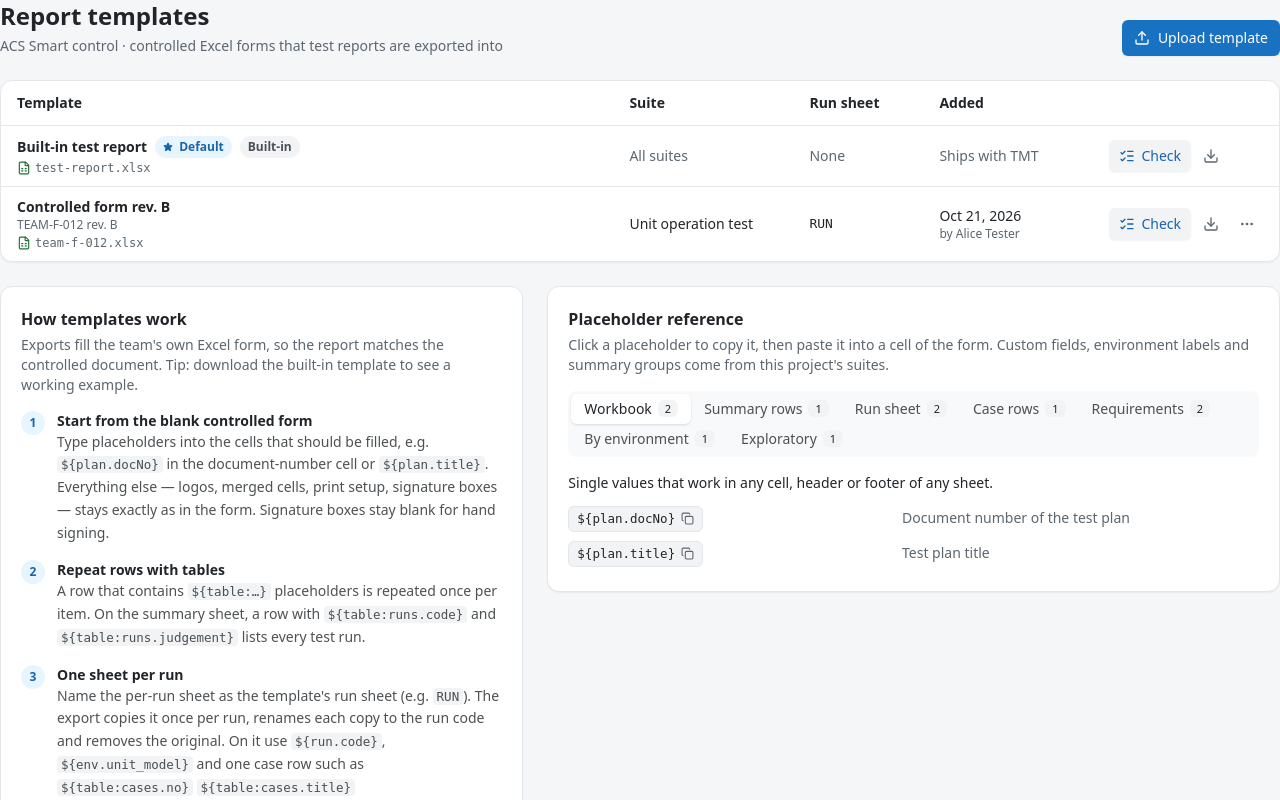
TemplatesPage › confirms a working template
Click the button with aria-label "Check Built-in test report": coordinates (1150, 156) [1109,140,1191,172]
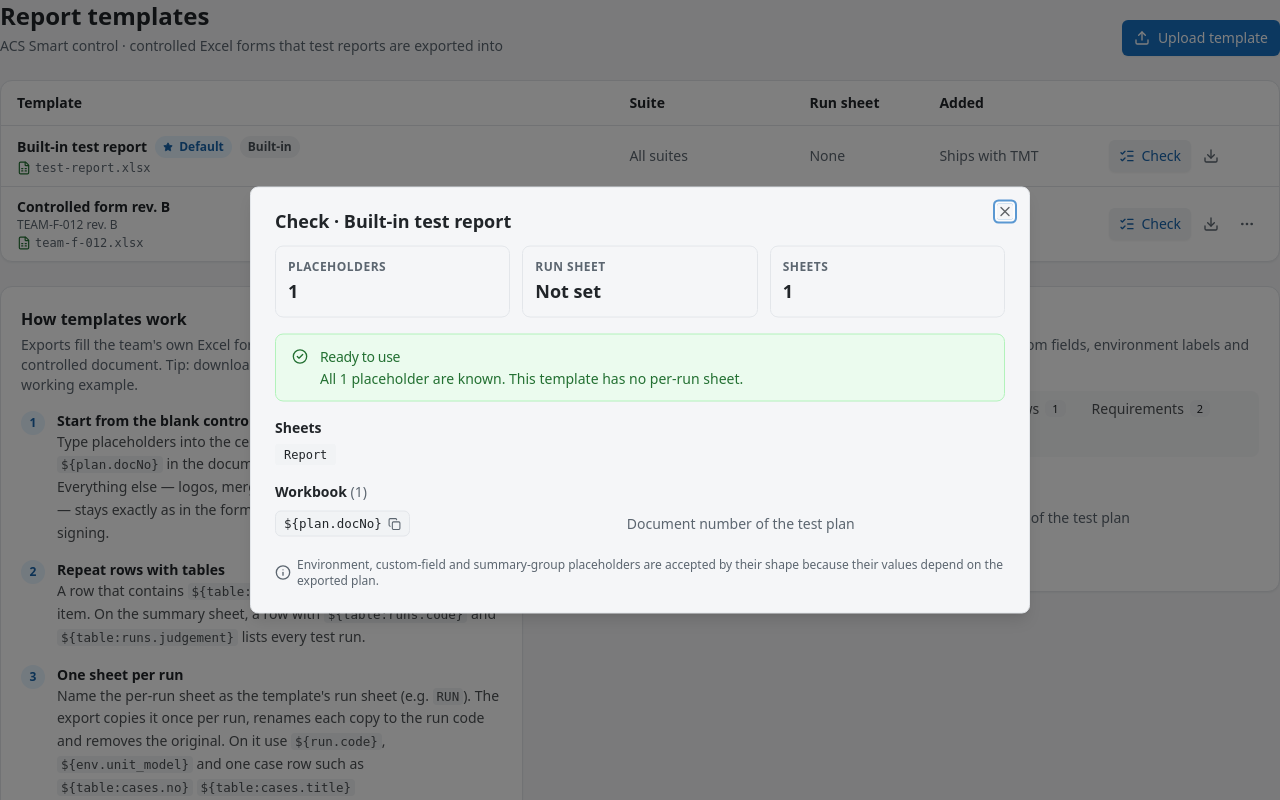
Now the text "Ready to use" is shown, box [320,346,400,366]
Now the text "All 1 placeholder are known. This template has no per-run sheet." is shown, box [320,368,743,388]
